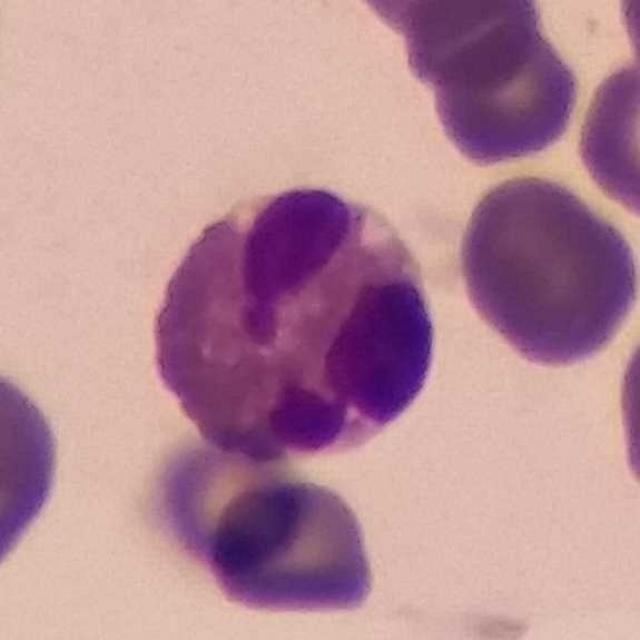Eosinophil: (134, 170, 450, 469)
RBC: (451, 167, 640, 372), (138, 420, 318, 588), (199, 470, 383, 623), (425, 20, 586, 170), (397, 0, 548, 95), (0, 363, 65, 564), (571, 50, 640, 224), (343, 0, 520, 38), (607, 316, 640, 503), (611, 0, 640, 87)
